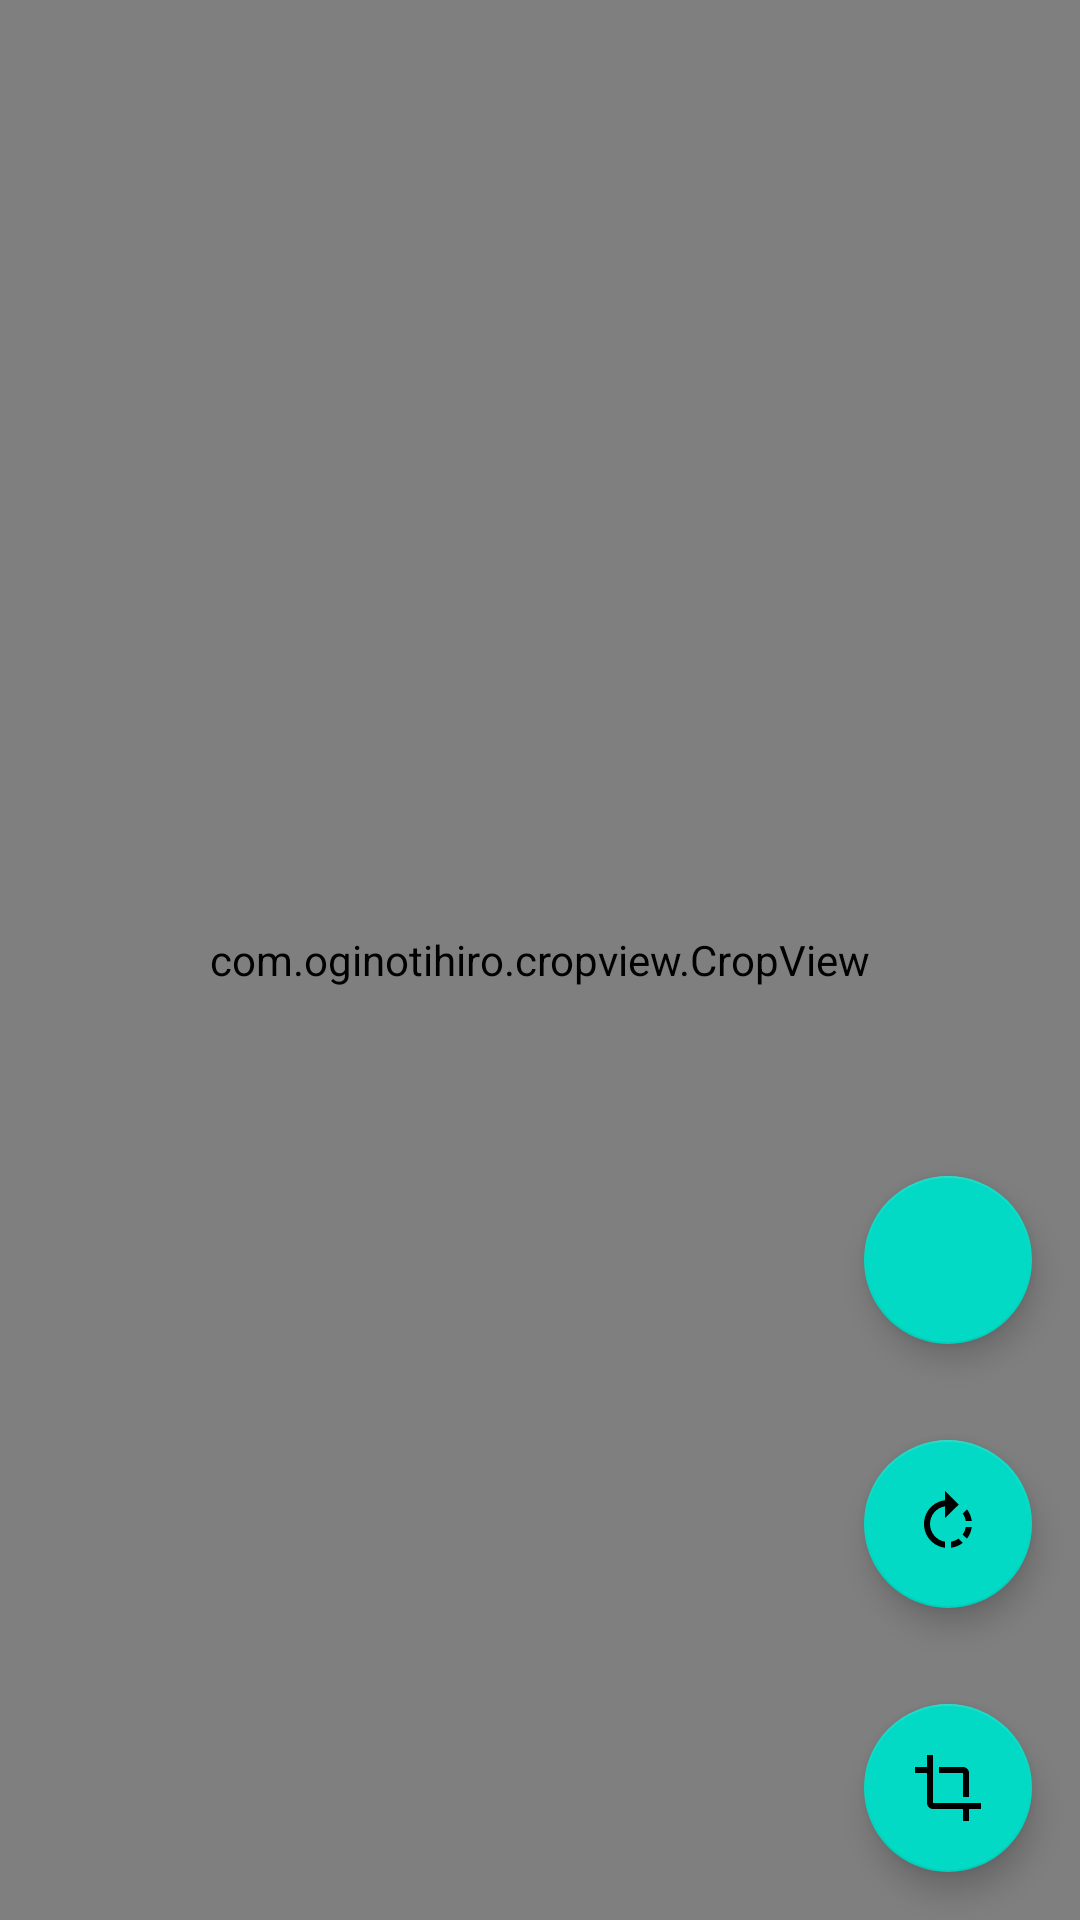

Icon bounding boxes for this 1080 × 1920 phone screenshot, format (x1, y1, x2, y2):
rotate right: (864, 1440, 1032, 1608)
